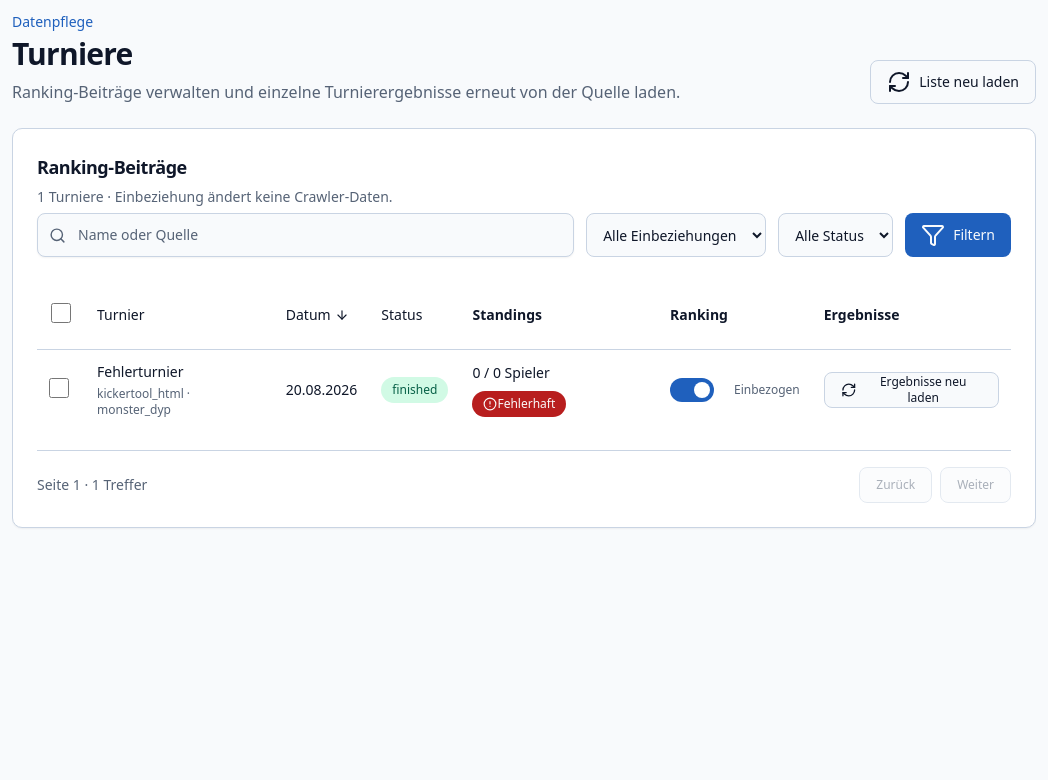
Test case: TournamentManagementPage › distinguishes an unknown status from a failed source fetch
The width and height of the screenshot is (1048, 780).
Step 1. Click the button with aria-label "Fehlerturnier: Ergebnisse neu laden" → (911,390), box [824,372,999,408]
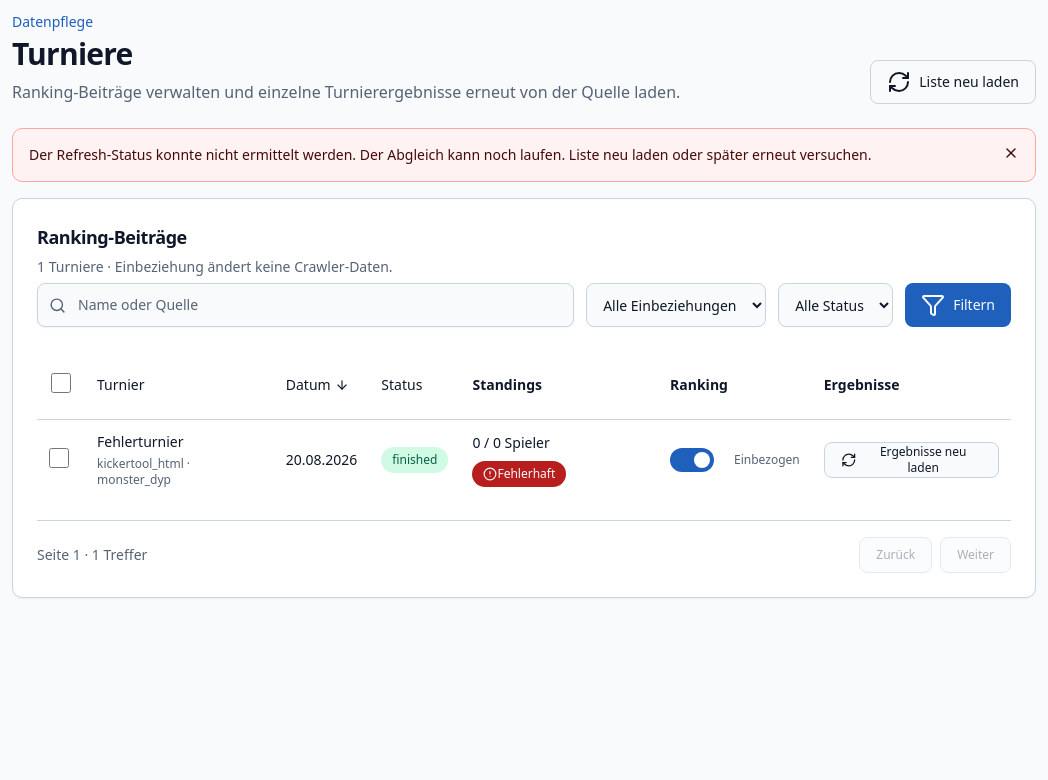
Now the text "Der Abgleich kann noch laufen" is shown, box [29,145,872,164]
